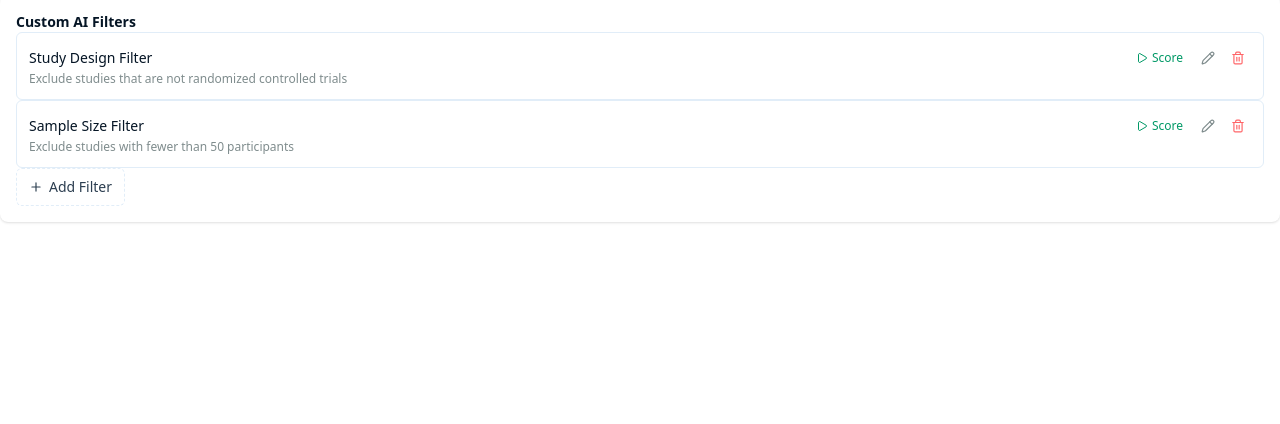
CustomAiFilterEditor › creates a new filter
The image size is (1280, 424).
Click the button with test id "add-filter-button": {"x": 70, "y": 187} [16,168,125,206]
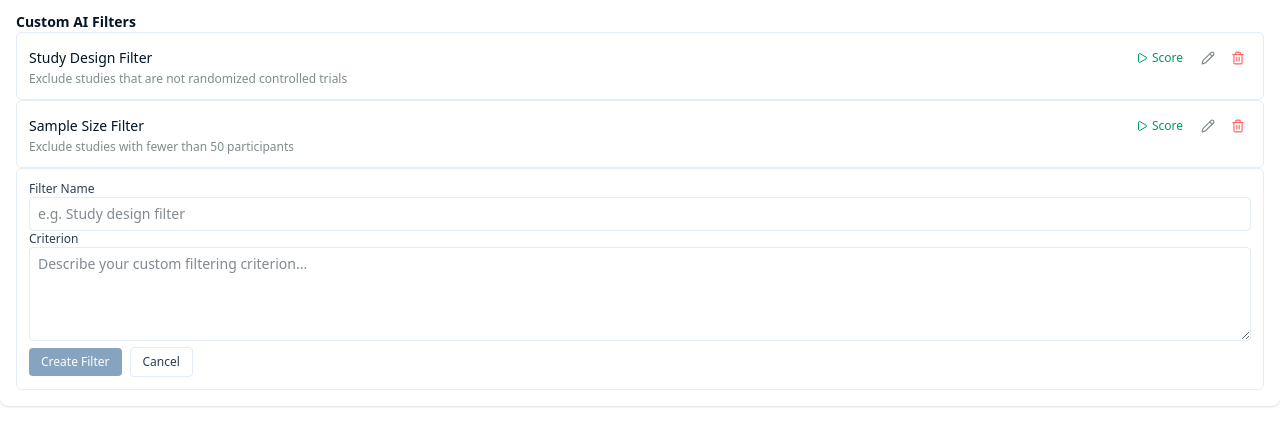
In the field with test id "new-filter-name-input": {"x": 640, "y": 214} [29,197,1251,231], type "Language Filter"
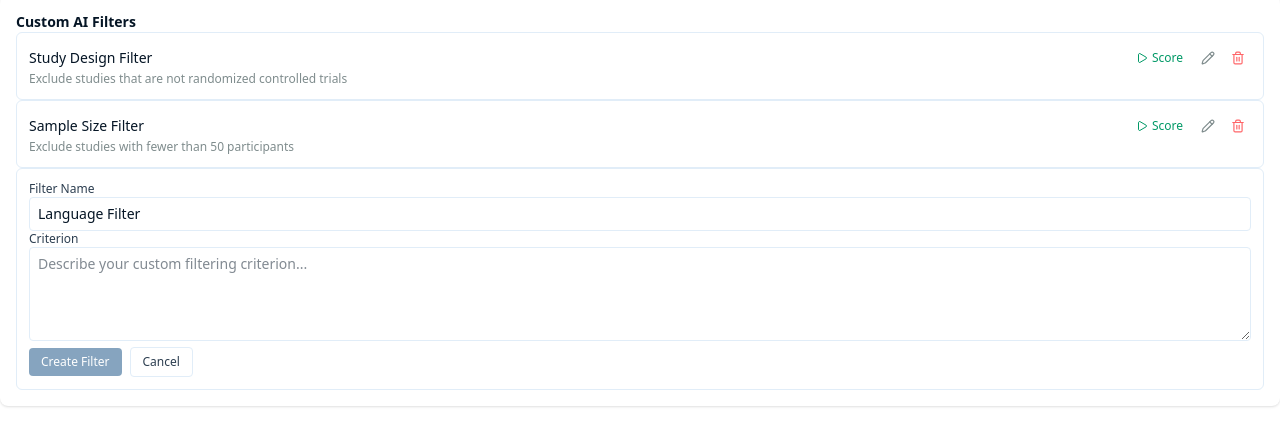
In the text box with test id "new-filter-criterion-input": {"x": 640, "y": 294} [29,247,1251,341], type "Only include English language studies"
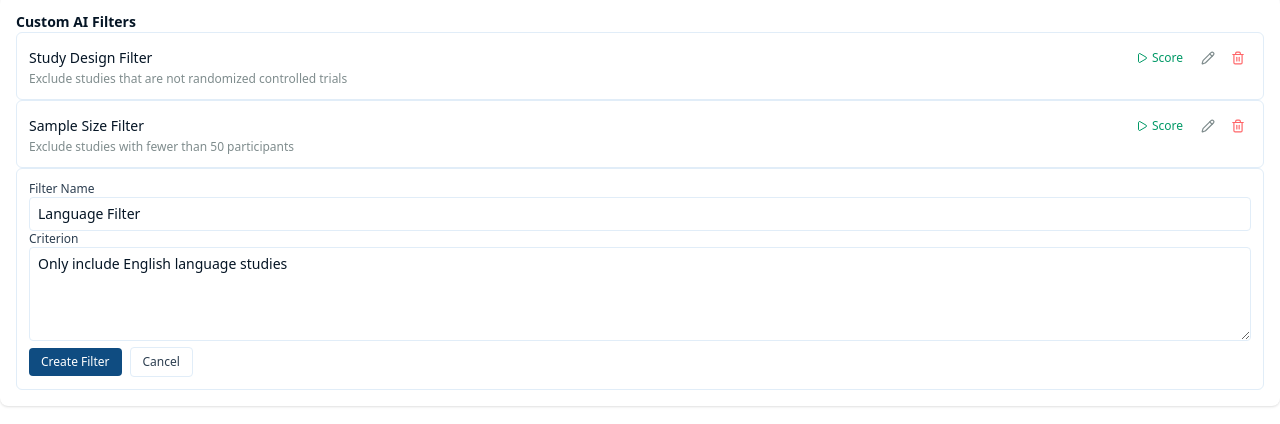
Click the button with test id "save-new-filter-button": {"x": 75, "y": 362} [29,348,122,376]
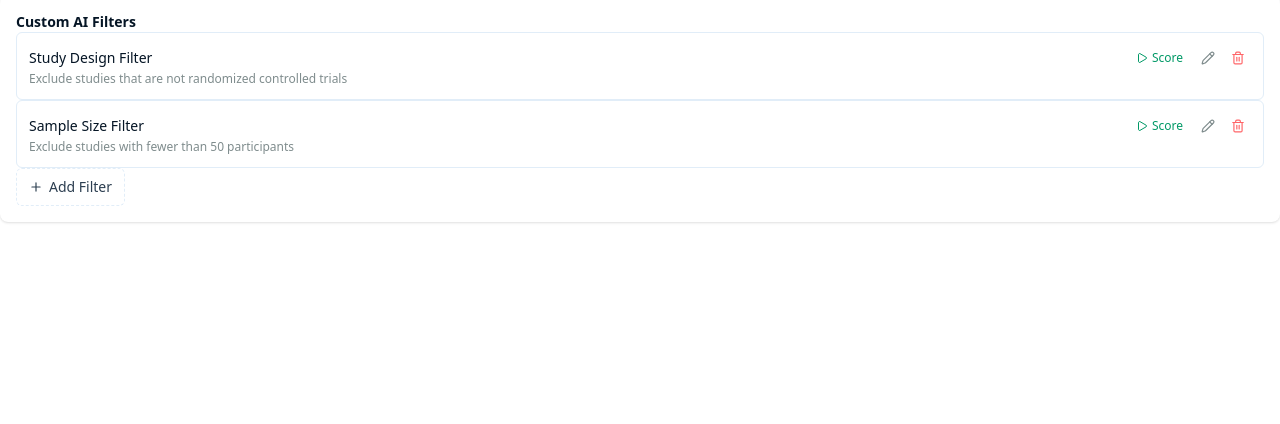
Expected: the element with test id "create-filter-form" is gone
